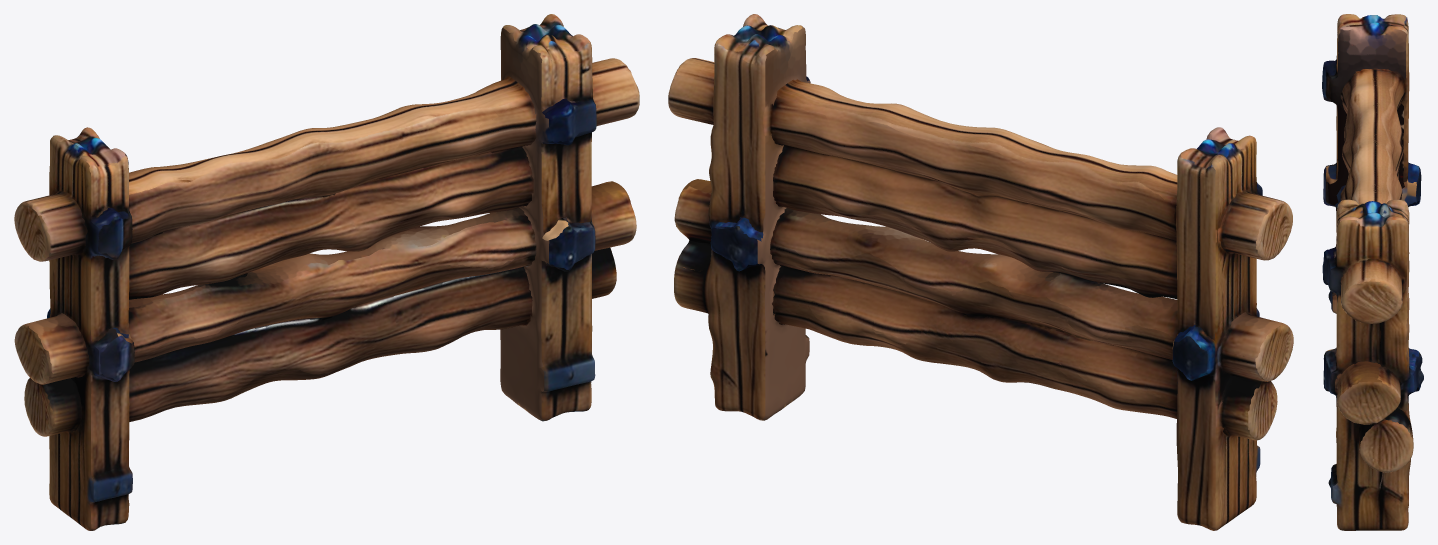
File: barricada_madera.glb
3 renders of one model, left to right at view 1: azimuth 30°, elevation 25°; view 2: azimuth 150°, elevation 25°; view 3: azimuth 270°, elevation 25°, orthographic. The views are drawn at different scales.
Parts seen in each view (by area): view 1: tmpo50z6wkw.ply; view 2: tmpo50z6wkw.ply; view 3: tmpo50z6wkw.ply.
Boxes of the visible parts, left/top/right/bottom form: tmpo50z6wkw.ply: left=14, top=14, right=639, bottom=530; tmpo50z6wkw.ply: left=668, top=14, right=1293, bottom=530; tmpo50z6wkw.ply: left=1322, top=14, right=1423, bottom=530.
Size of the model in its own units: 0.9924 by 0.5986 by 0.1751.
Materials: 1 (1 with a texture image).
